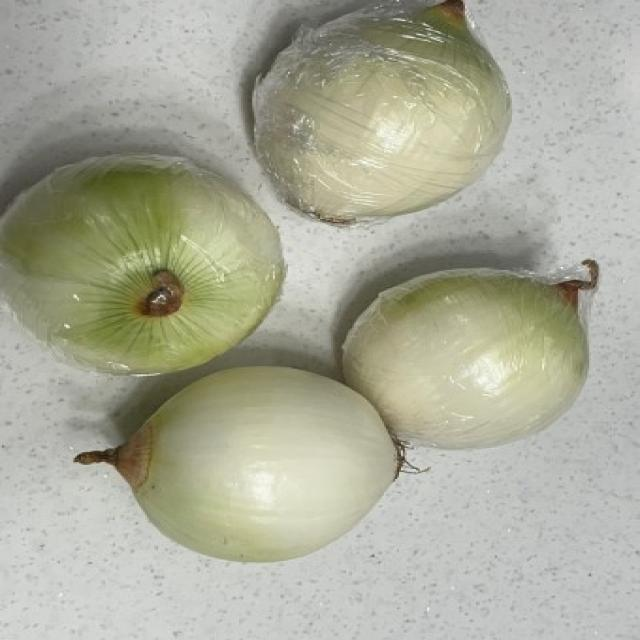onion: (244, 1, 565, 231), (2, 144, 312, 366), (102, 360, 428, 566), (360, 252, 606, 450)
